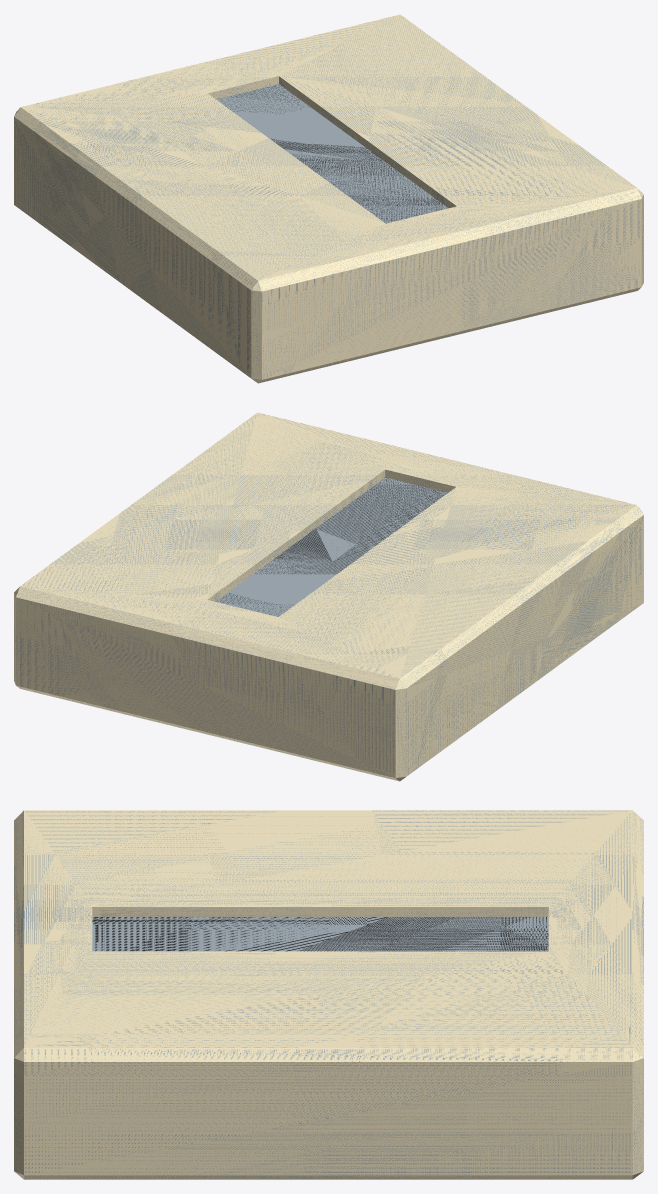
The model's file is Boardgame_Anagram_Tile_I.fbx.
3 renders of one model, top to bottom at view 1: azimuth 30°, elevation 25°; view 2: azimuth 150°, elevation 25°; view 3: azimuth 270°, elevation 25°, orthographic. The views are drawn at different scales.
Parts seen in each view (by area): view 1: Model; view 2: Model; view 3: Model.
Boxes of the visible parts, left/top/right/bottom form: Model: left=14, top=14, right=643, bottom=383; Model: left=14, top=412, right=643, bottom=781; Model: left=14, top=810, right=643, bottom=1179.
Size of the model in its own units: 195 by 48.83 by 212.
